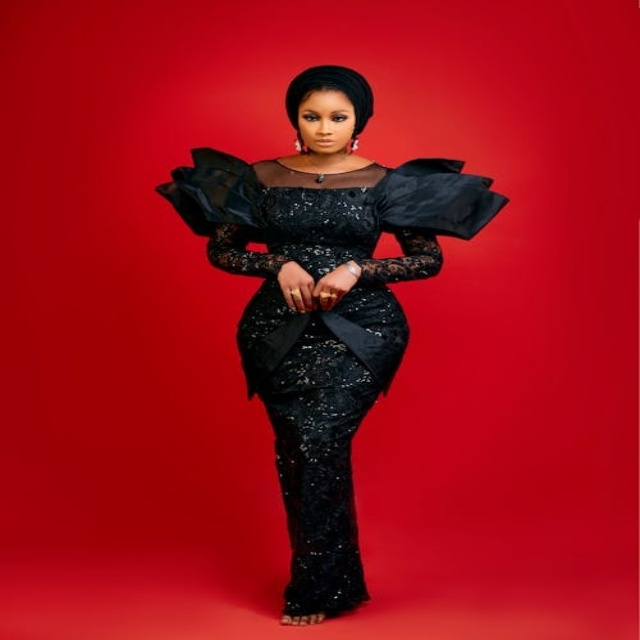Sin_gafas: (297, 104, 351, 126)
Sin_guantes: (312, 257, 358, 312), (271, 259, 315, 312)
Sin_mascara: (308, 134, 340, 152)
